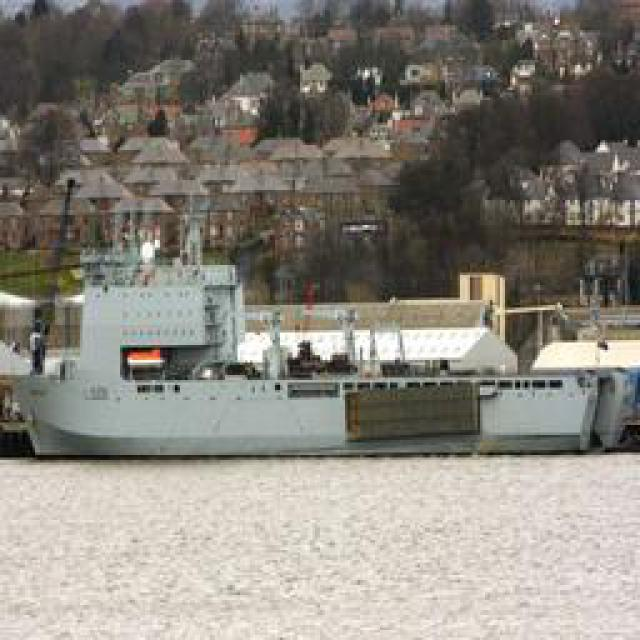Ship: (8, 189, 636, 467)
